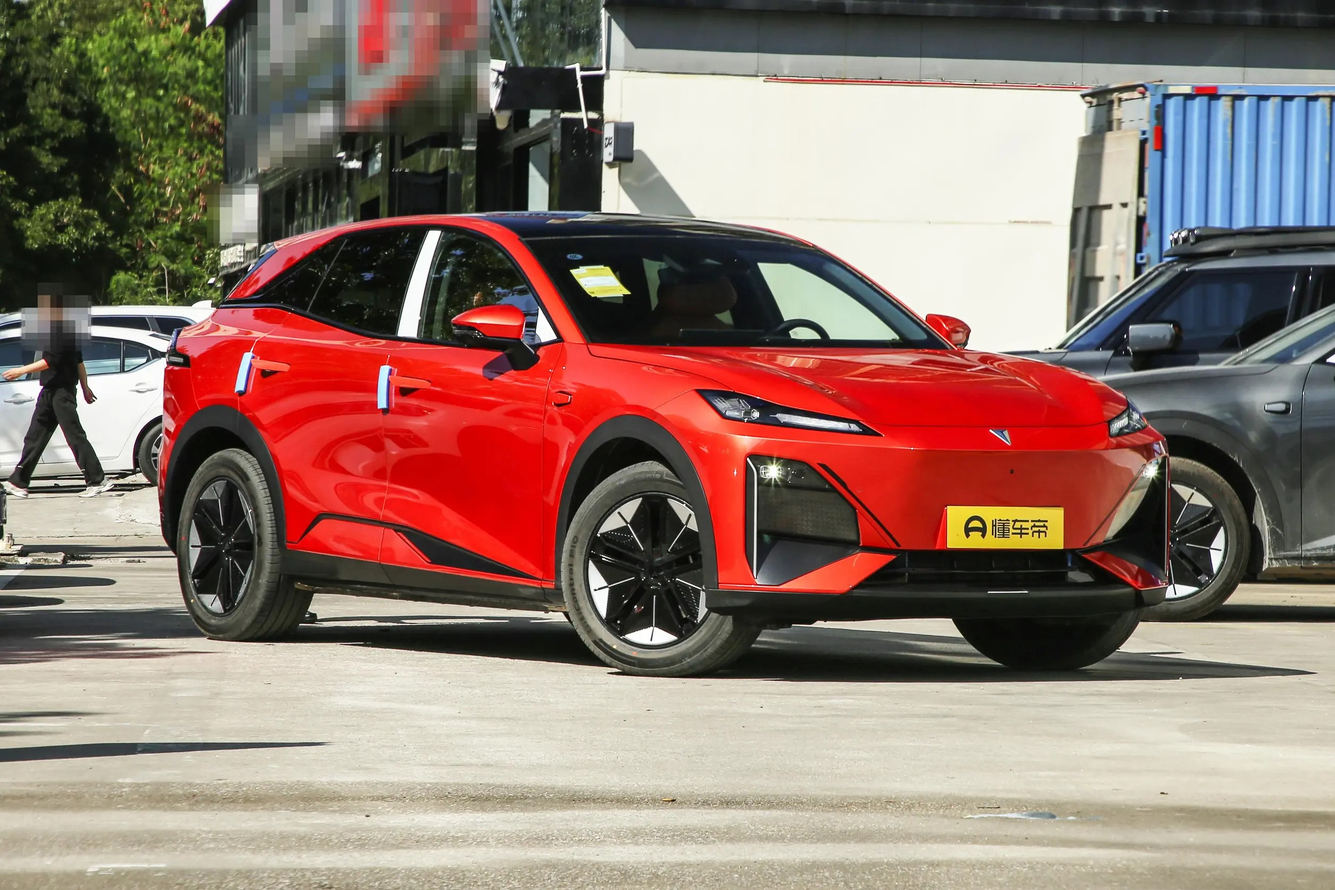Deepal: (990, 429, 1011, 445)
